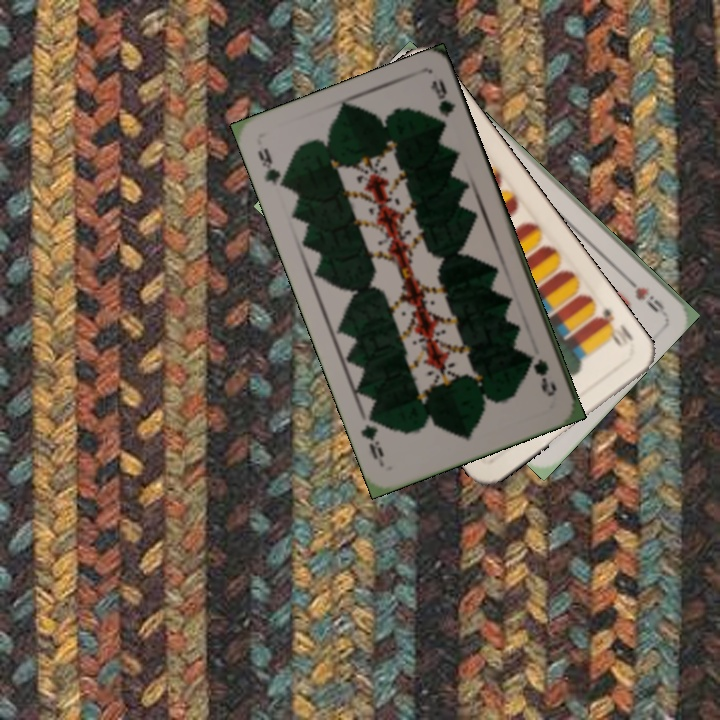E10: (592, 304, 636, 349)
G9: (253, 144, 291, 192), (524, 349, 560, 399)
H9: (619, 271, 668, 317)
